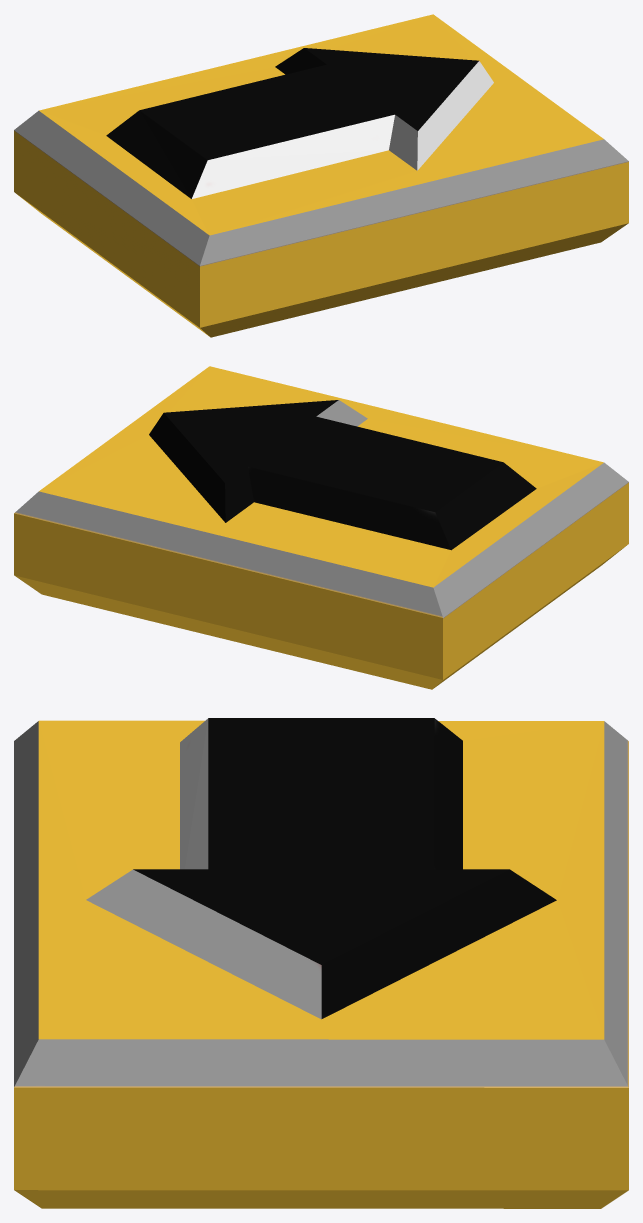
File: arrow.fbx
3 renders of one model, top to bottom at view 1: azimuth 30°, elevation 25°; view 2: azimuth 150°, elevation 25°; view 3: azimuth 270°, elevation 25°, orthographic. The views are drawn at different scales.
Parts seen in each view (by area): view 1: Plane; view 2: Plane; view 3: Plane.
Part boxes in pixels (x1,y1,x2,y2): Plane: (14,14,628,337); Plane: (14,366,628,689); Plane: (14,718,628,1208).
Bounding box in the file's own units: 435 × 125 × 326.
Materials: 1 (1 with a texture image).
